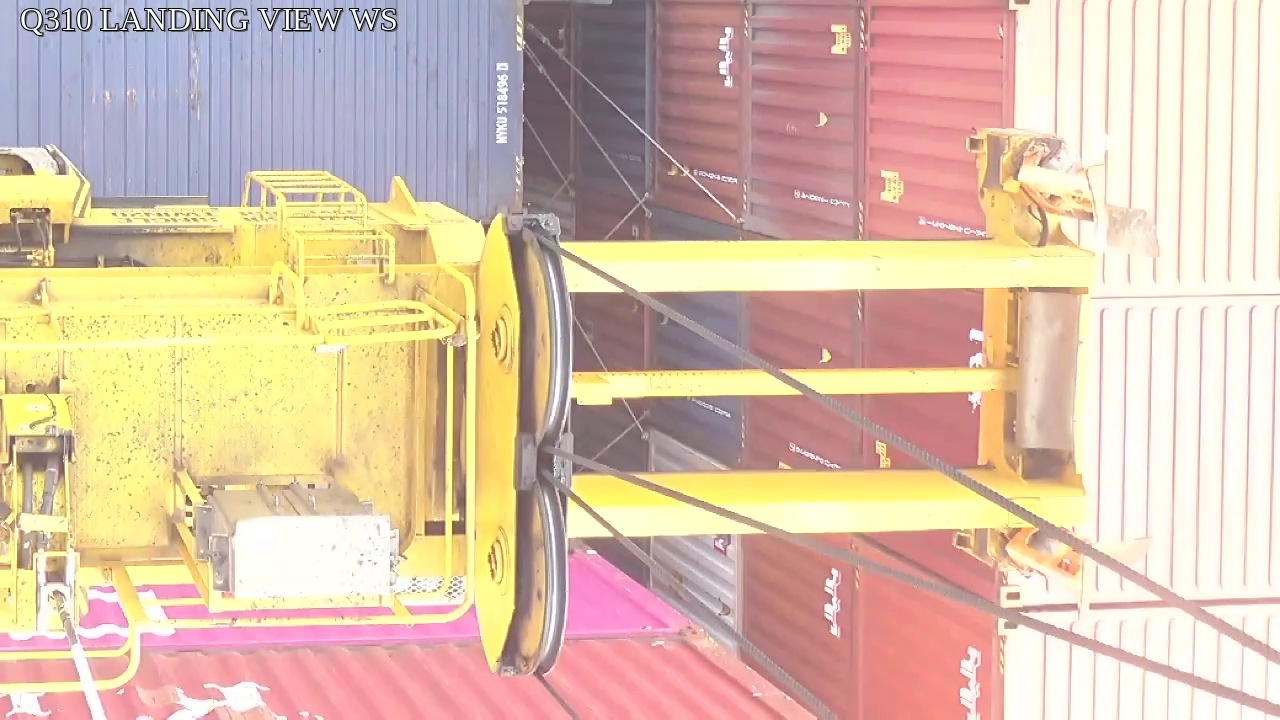right: (471, 211, 573, 677)
